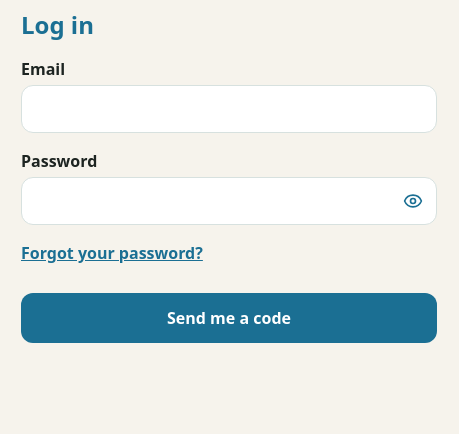
step 1: email and password › on 401 says: Invalid email or password
In the field labelled "Email": (229, 109) [21,85,437,133], type "ada@example.com"
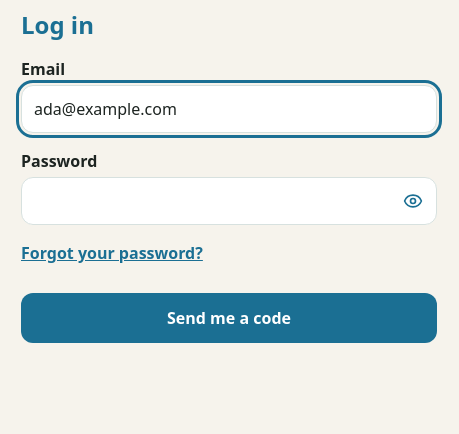
In the password field labelled "Password": (229, 201) [21,177,437,225], type "a-long-password"
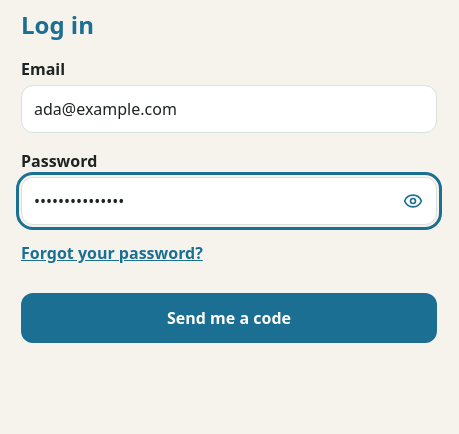
Click the button "Send me a code": (229, 318) [21,293,437,343]
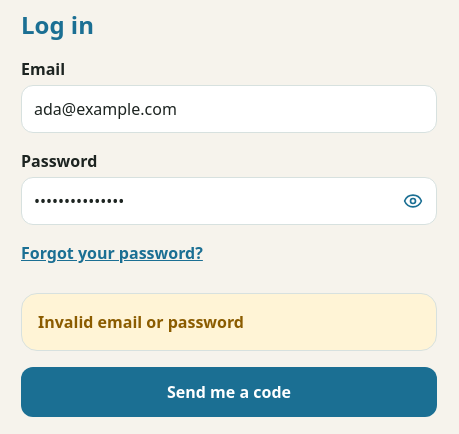
Now the text "Invalid email or password" is shown, box [21,293,437,351]
